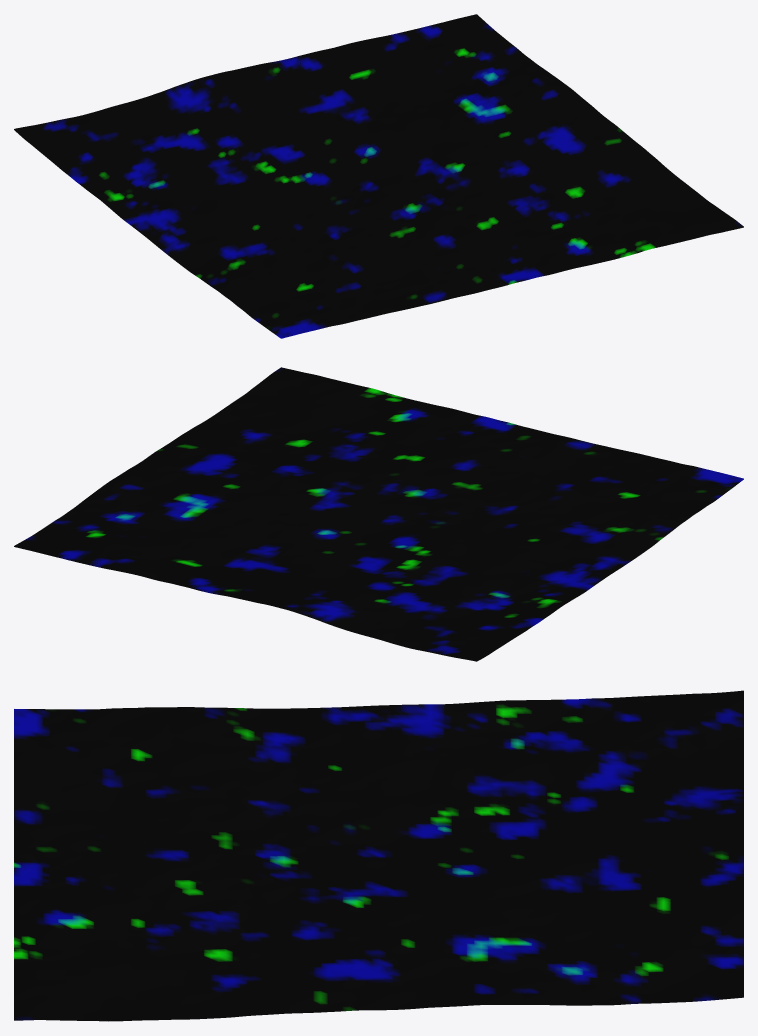
Rendered from coast_0_-1600_800.glb.
3 renders of one model, top to bottom at view 1: azimuth 30°, elevation 25°; view 2: azimuth 150°, elevation 25°; view 3: azimuth 270°, elevation 25°, orthographic. The views are drawn at different scales.
Parts seen in each view (by area): view 1: terrain; view 2: terrain; view 3: terrain.
Part boxes in pixels (left/top/right/bottom): terrain: left=14, top=14, right=743, bottom=338; terrain: left=14, top=367, right=743, bottom=661; terrain: left=14, top=690, right=743, bottom=1021.
Bounding box in the file's own units: 800 × 36.6 × 800.
